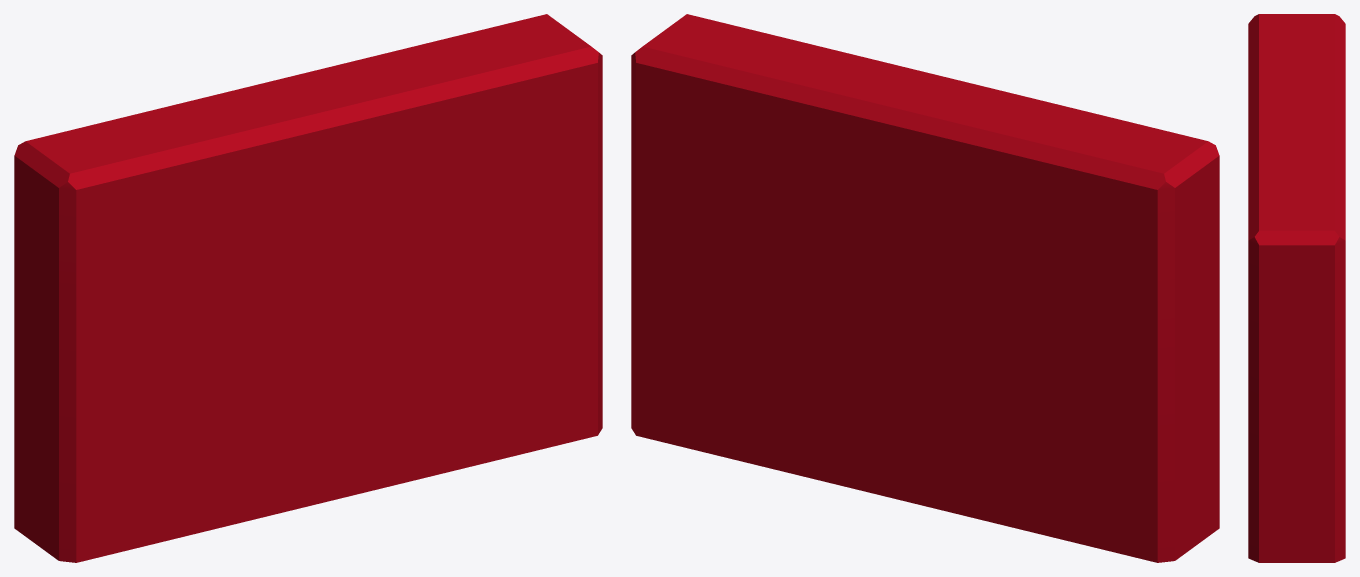
The model's file is wall.FBX.
The picture shows the model from 3 angles, left to right: view 1: azimuth 30°, elevation 25°; view 2: azimuth 150°, elevation 25°; view 3: azimuth 270°, elevation 25°; orthographic projection. The views are drawn at different scales.
Parts seen in each view (by area): view 1: Box029; view 2: Box029; view 3: Box029.
Part boxes in pixels (box(x1,y1,x2,y2)): Box029: box(14, 14, 602, 562); Box029: box(631, 14, 1219, 562); Box029: box(1248, 14, 1345, 562).
Size of the model in its own units: 24.73 by 16.72 by 4.51.
